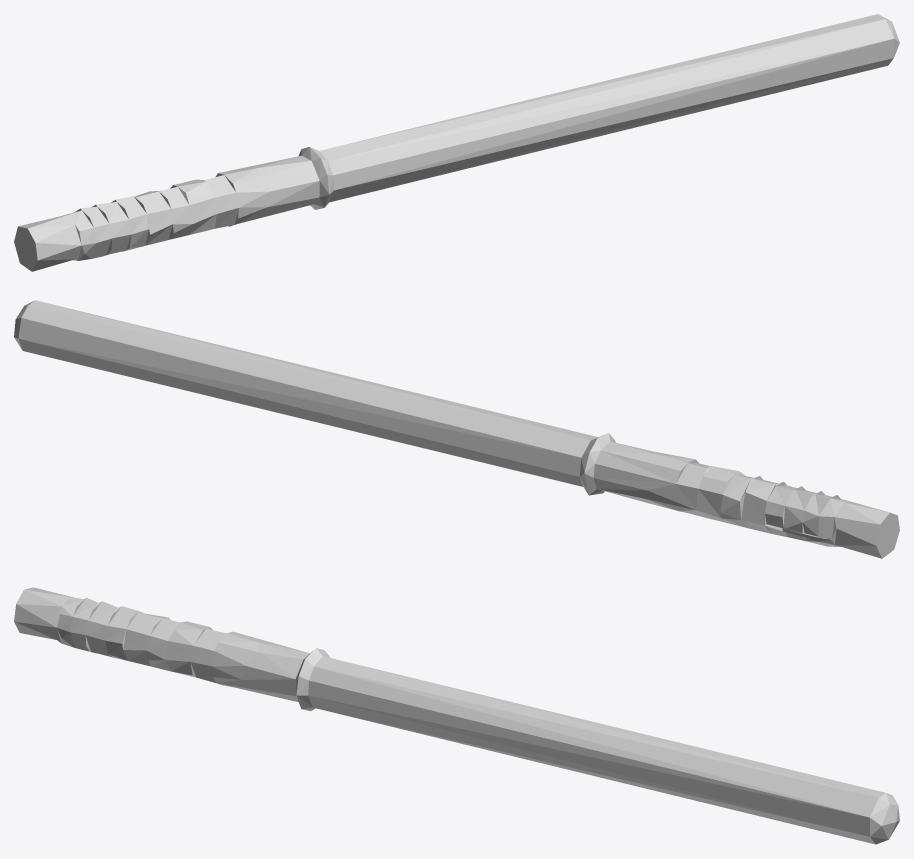
File: Model_PalkaZomowska.fbx
3 renders of one model, top to bottom at view 1: azimuth 30°, elevation 25°; view 2: azimuth 150°, elevation 25°; view 3: azimuth 330°, elevation 25°, orthographic.
Visible parts, largest first — view 1: PalkaZomowska; view 2: PalkaZomowska; view 3: PalkaZomowska.
Boxes of the visible parts, x1,y1,x2,y2 form: PalkaZomowska: (14,14,899,271); PalkaZomowska: (14,300,899,558); PalkaZomowska: (14,587,899,844).
Size of the model in its own units: 5.32 by 5.28 by 81.1.
